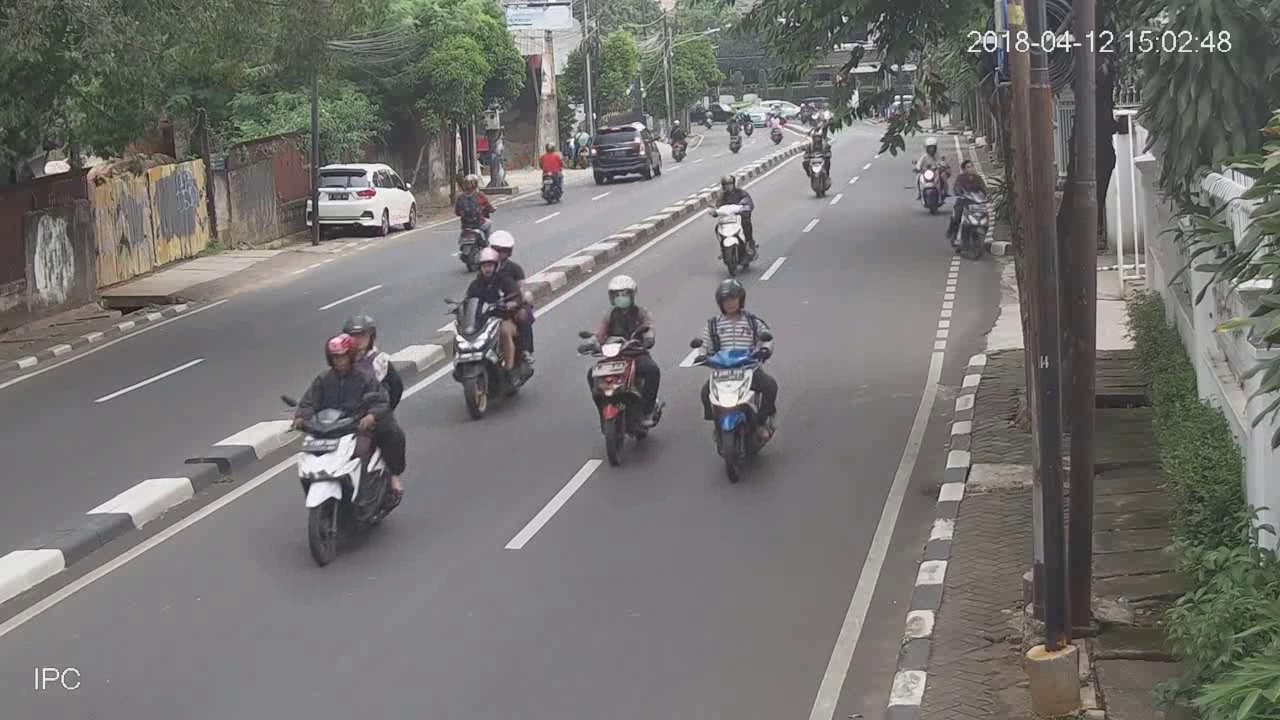car: (303, 160, 417, 238), (590, 121, 663, 183)
motorcycle: (275, 308, 413, 568), (443, 230, 547, 419), (689, 278, 780, 486), (576, 273, 668, 467), (707, 174, 760, 278), (949, 159, 996, 262), (908, 134, 952, 215), (451, 173, 483, 269), (799, 128, 835, 198), (536, 137, 566, 204)
